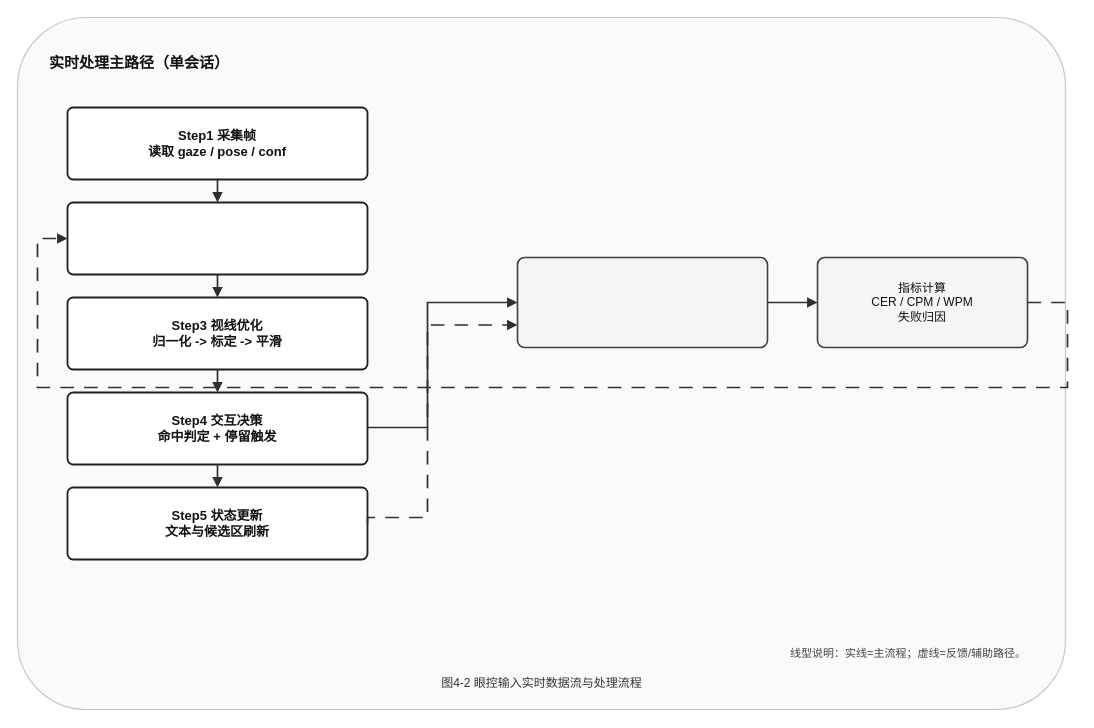
The diagram is 1094 pixels wide and 728 high, and some of its shapes have lost their labels. The shapes that lost their labels are listed below. From the top down, each one's box as (x1, y1, x2, y2) in pixels, then its label:
(66, 201, 368, 275): Step2 质量检查 低置信度过滤与边界裁剪
(516, 256, 768, 348): 日志写入 事件 / 停留时长 / 状态变化
